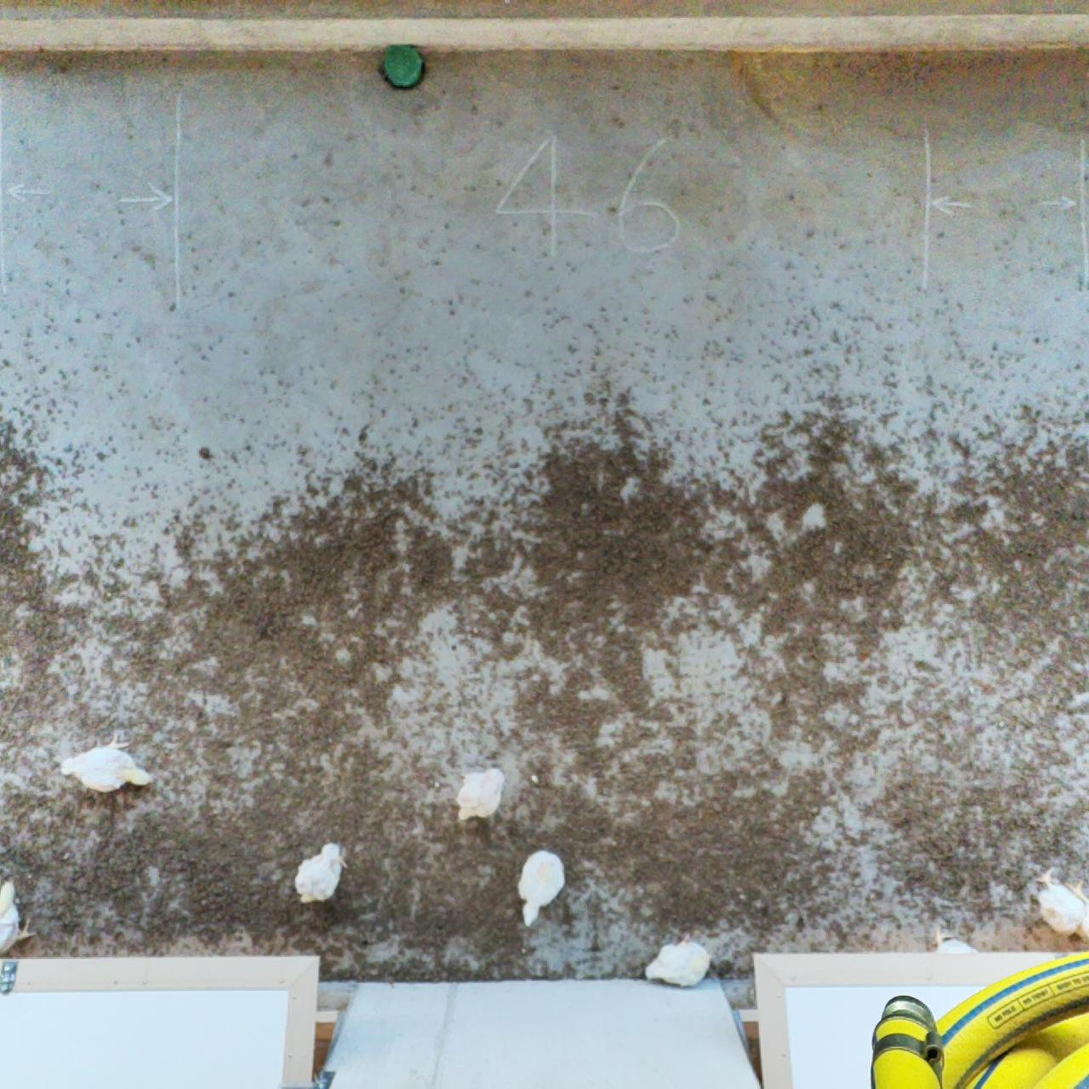chicken: (58, 735, 157, 796), (642, 931, 715, 992), (513, 850, 568, 929), (293, 838, 351, 907), (1032, 864, 1085, 939), (452, 764, 508, 825), (0, 873, 37, 956), (929, 922, 979, 959), (1066, 876, 1089, 949)
